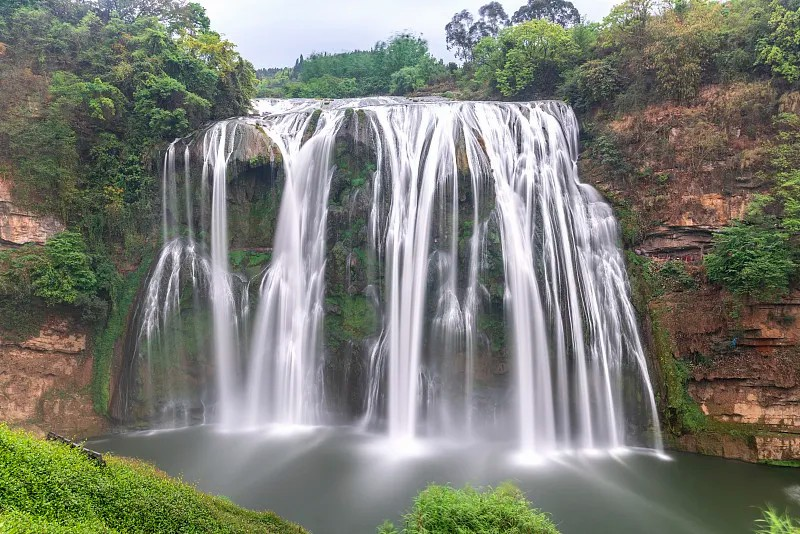Huangguoshu: (136, 98, 665, 452)
